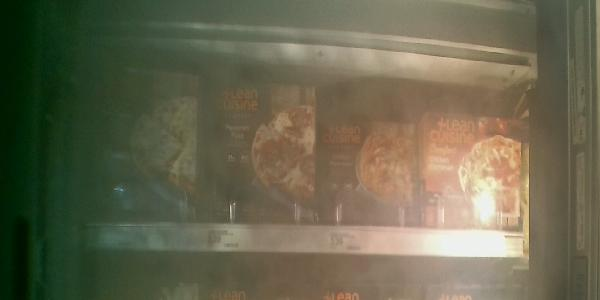pizza1: (90, 65, 199, 218), (202, 78, 318, 221), (421, 111, 521, 229), (322, 122, 417, 229)
